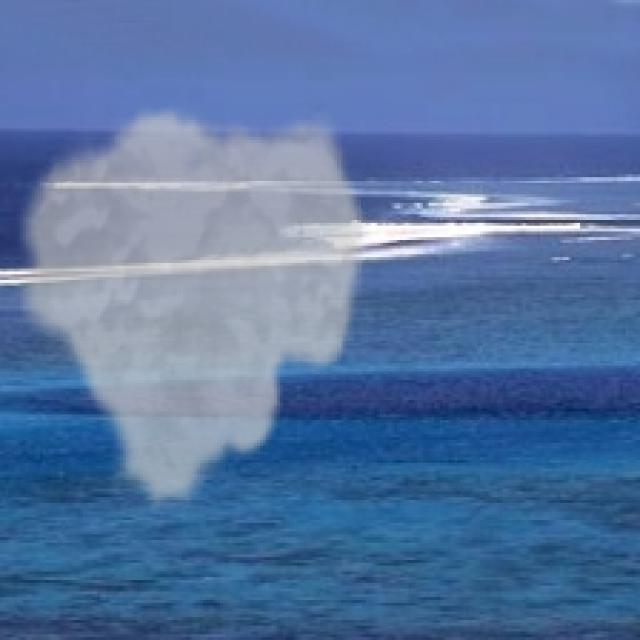smoke: (9, 103, 372, 514)
